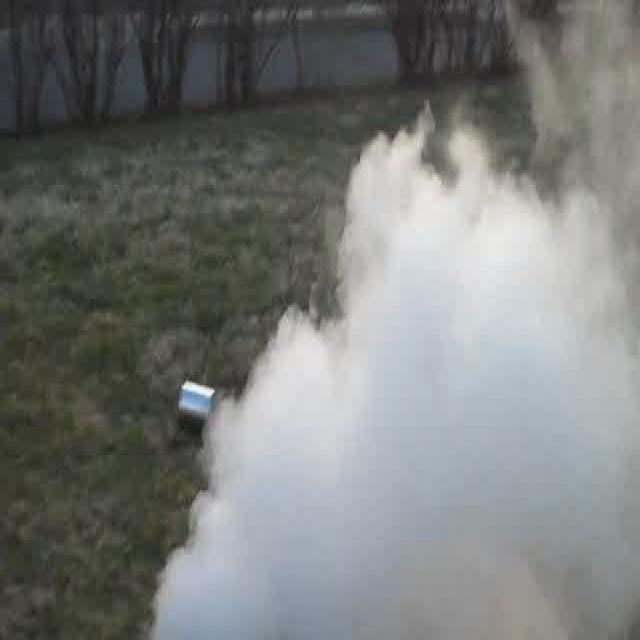Smoke: (178, 140, 630, 640)
